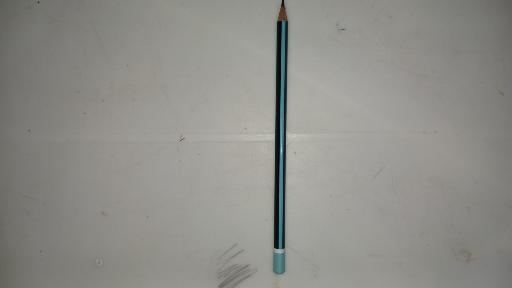Pencil: (274, 1, 290, 275)
